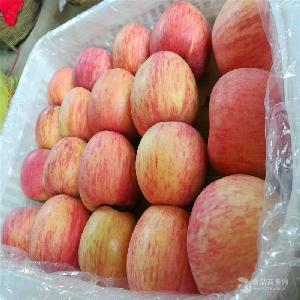apple: (188, 174, 278, 294), (205, 66, 271, 177), (125, 203, 197, 295), (134, 122, 205, 207), (129, 50, 199, 135), (29, 193, 91, 274), (77, 130, 138, 211), (151, 1, 211, 80), (76, 205, 135, 284), (211, 1, 273, 74), (88, 67, 136, 137), (41, 135, 86, 200), (110, 22, 151, 75), (17, 145, 53, 203), (2, 207, 40, 259), (71, 47, 114, 90), (59, 85, 90, 142), (34, 105, 62, 148), (47, 65, 75, 106)
